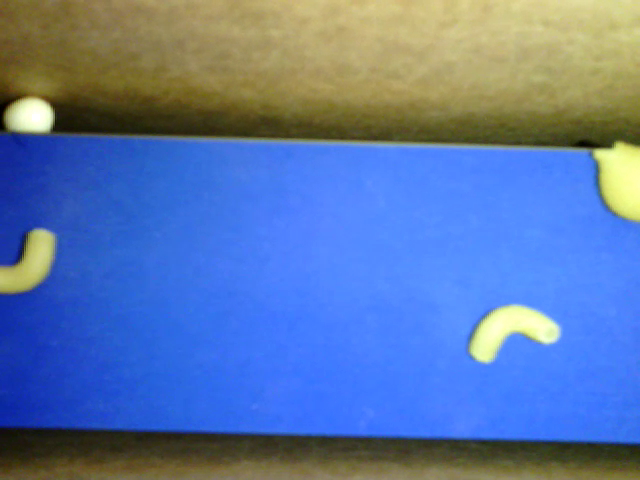elbow: (469, 304, 560, 363), (1, 228, 56, 294)
shell: (592, 141, 639, 222)
